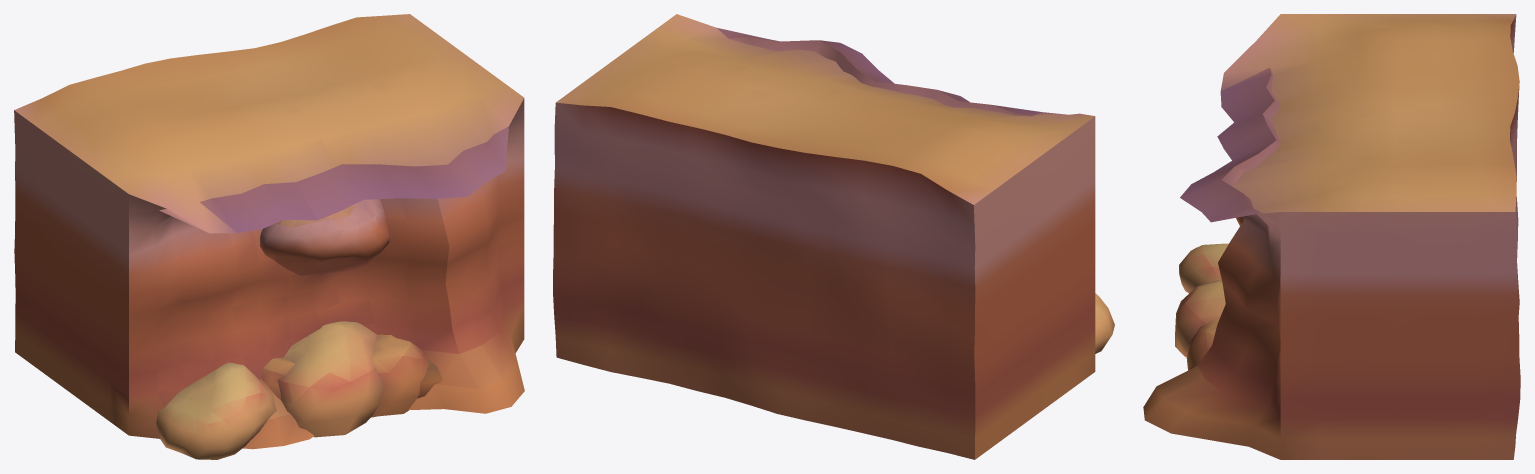
File: amber_cliff_strata_c.glb
3 renders of one model, left to right at view 1: azimuth 30°, elevation 25°; view 2: azimuth 150°, elevation 25°; view 3: azimuth 270°, elevation 25°, orthographic. The views are drawn at different scales.
Visible parts, largest first — view 1: amber_cliff_strata_c; view 2: amber_cliff_strata_c; view 3: amber_cliff_strata_c.
Boxes of the visible parts, box(x1,y1,x2,y2) form: amber_cliff_strata_c: box(14, 14, 524, 459); amber_cliff_strata_c: box(553, 14, 1114, 459); amber_cliff_strata_c: box(1143, 14, 1520, 459).
Bounding box in the file's own units: 12 × 7.62 × 9.66.
